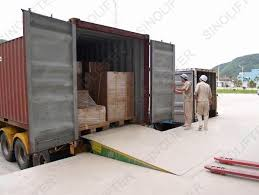Yard Ramp: (83, 122, 203, 175)
